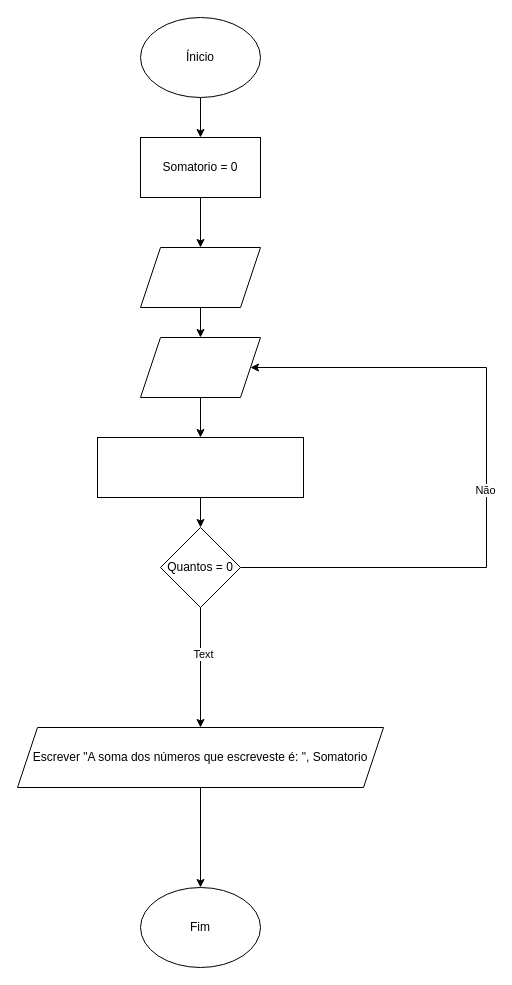
The diagram is 512 pixels wide and 985 high, and some of its shapes have lost their labels. Here are the shapes that lost their labels. From the top down, the centre of each, then its label:
At (x=200, y=277): "Ler Quantos".
At (x=200, y=367): "Ler N".
At (x=200, y=467): "Quantos = Quantos - 1 Somatorio = Somatorio + N".
